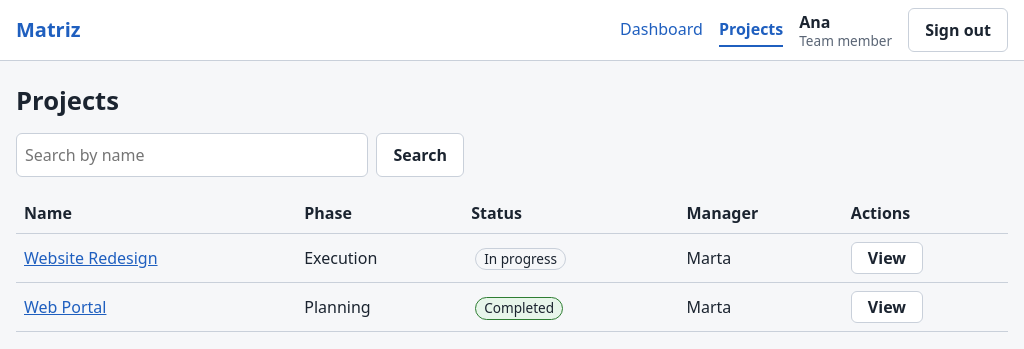
Scenario: the list of projects (F01, F22) › searches by the text of the name and says when nothing is found (P29)
Check: the link "Website Redesign" is shown, box 24,247 -> 158,269
Type " web " into the search field named "Search projects by name" at [192, 155], box 16,133 -> 368,177
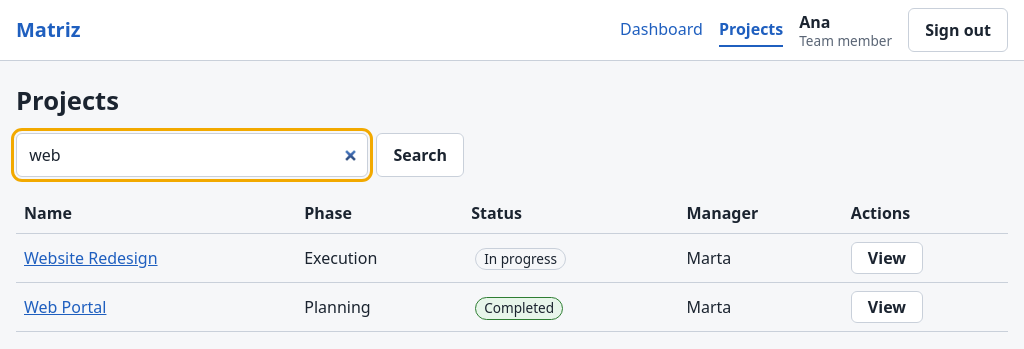
Click the button "Search" at [420, 155], box 376,133 -> 464,177
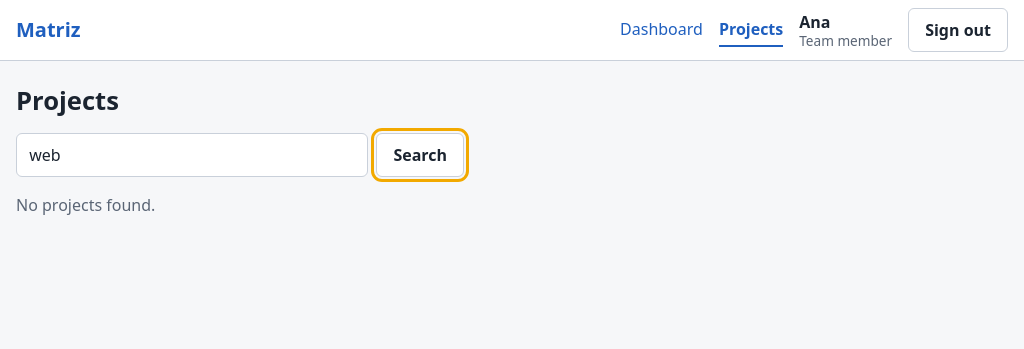
Check: the text "No projects found." is shown, box 16,194 -> 155,216
